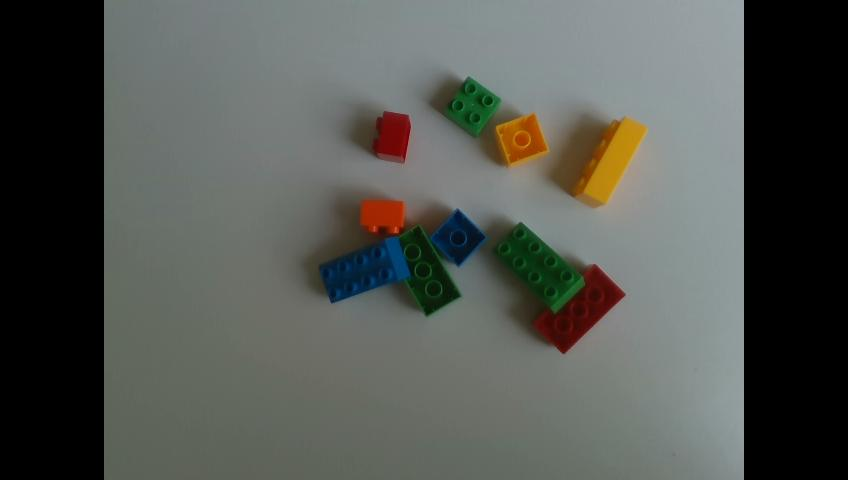2x2_blue: (431, 207, 487, 266)
2x2_green: (443, 75, 500, 135)
2x2_orange: (362, 198, 404, 233)
2x2_red: (375, 110, 411, 162)
2x2_yellow: (496, 113, 547, 167)
4x2_blue: (320, 236, 410, 302)
4x2_green: (496, 222, 584, 311), (395, 227, 462, 317)
4x2_red: (532, 264, 627, 353)
4x2_yellow: (571, 116, 647, 207)
